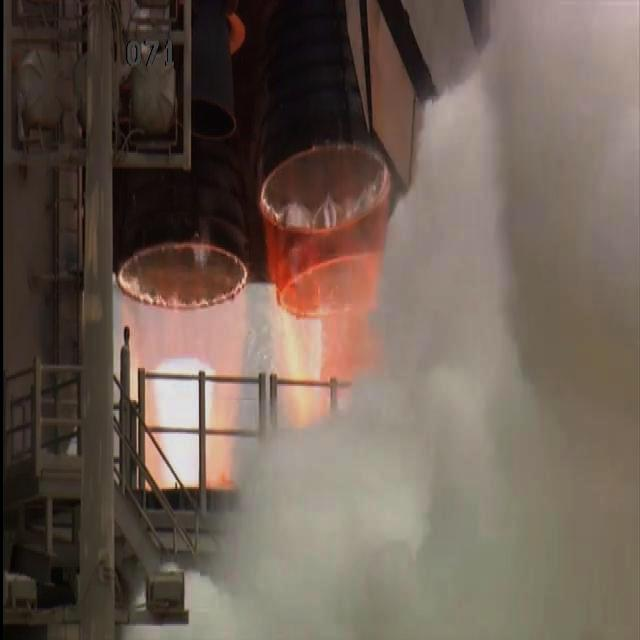smoke: (554, 5, 633, 101), (486, 0, 552, 92), (435, 509, 510, 580), (572, 111, 635, 185), (280, 558, 336, 638), (221, 557, 276, 635), (585, 195, 634, 278), (468, 74, 524, 146), (363, 429, 421, 498), (416, 171, 468, 247), (442, 584, 510, 640), (524, 166, 580, 233), (415, 373, 483, 428), (426, 434, 484, 498), (513, 516, 569, 582), (572, 520, 637, 575), (542, 248, 584, 332), (590, 287, 630, 375), (429, 93, 471, 176), (344, 557, 388, 635), (488, 451, 546, 508), (393, 562, 439, 633), (533, 337, 587, 397), (375, 308, 426, 371), (370, 502, 428, 556), (573, 586, 633, 638), (424, 324, 482, 374), (357, 373, 412, 424), (476, 151, 518, 215), (487, 397, 543, 445), (498, 231, 536, 301), (552, 458, 598, 514), (516, 592, 570, 638), (484, 336, 528, 392), (551, 400, 599, 450), (320, 420, 362, 477), (417, 254, 454, 316), (283, 498, 322, 554), (250, 440, 286, 498), (329, 490, 366, 546), (606, 386, 640, 446), (240, 498, 276, 554), (286, 431, 320, 490), (530, 104, 566, 159), (380, 256, 413, 308), (466, 263, 494, 324), (608, 462, 638, 514), (500, 305, 540, 330), (394, 206, 414, 246)
